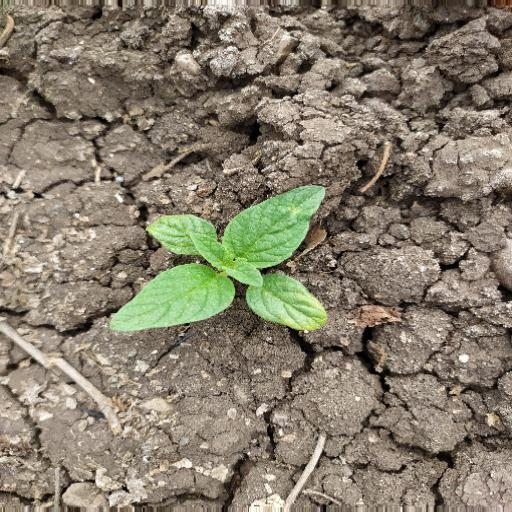crop: (108, 144, 334, 362)
